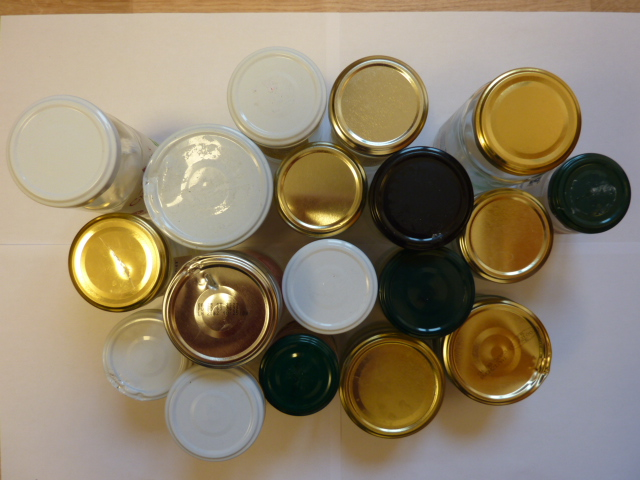damaged: (163, 254, 275, 368), (66, 215, 164, 309), (102, 312, 187, 401)
intact: (6, 95, 118, 208), (474, 69, 582, 171), (342, 336, 445, 438), (371, 147, 474, 246), (225, 46, 326, 145), (330, 56, 430, 154), (282, 238, 377, 333), (377, 248, 475, 336), (461, 191, 553, 283), (277, 143, 365, 234), (260, 337, 341, 416), (553, 153, 631, 232)
